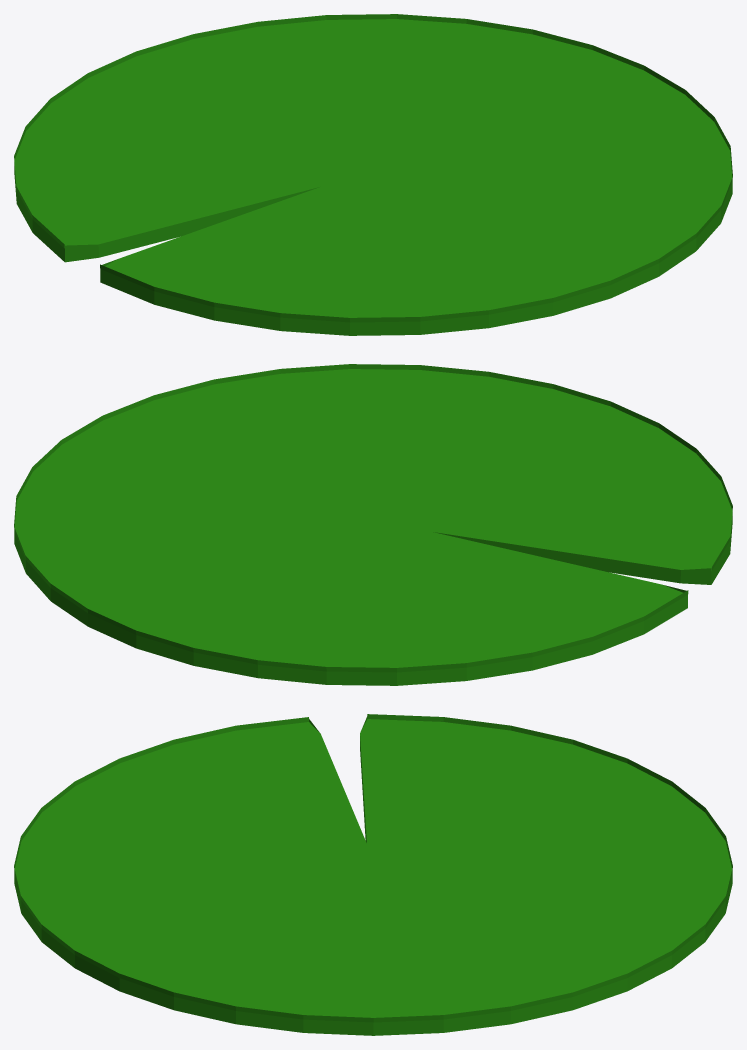
File: Lilypad.fbx
3 views of the same model, one above another, from view 1: azimuth 30°, elevation 25°; view 2: azimuth 150°, elevation 25°; view 3: azimuth 270°, elevation 25° (orthographic).
Visible parts, largest first — view 1: Cylinder; view 2: Cylinder; view 3: Cylinder.
Part boxes in pixels (x1,y1,x2,y2): Cylinder: (14,14,732,335); Cylinder: (14,364,732,685); Cylinder: (14,714,732,1035).
Bounding box in the file's own units: 276 × 7.68 × 276.
